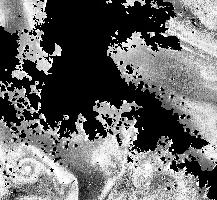CE: (10, 155, 38, 182)
